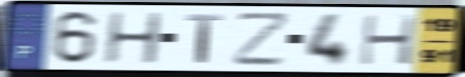4: (303, 11, 355, 68)
6: (49, 9, 101, 66)
H: (100, 11, 165, 66), (357, 13, 419, 67)
T: (184, 12, 226, 65)
Z: (232, 10, 294, 68)
